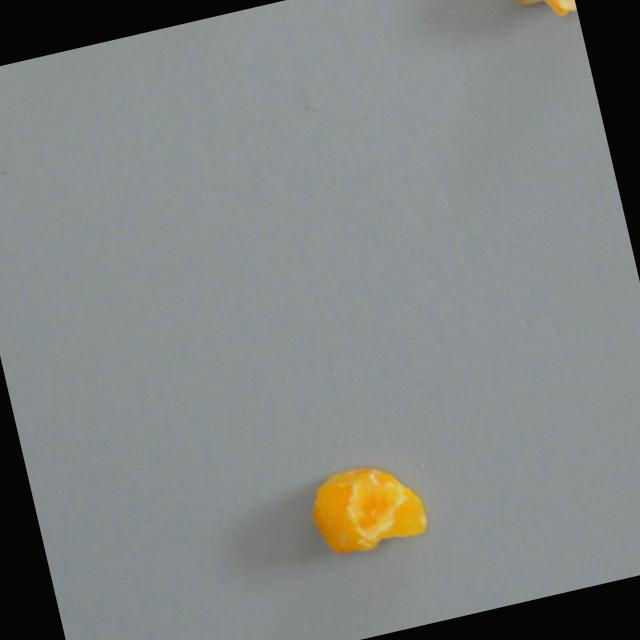pelicula: (303, 453, 435, 562), (515, 0, 577, 25)
